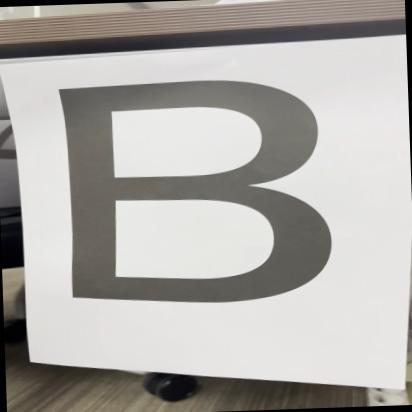seat: (25, 62, 366, 322)
